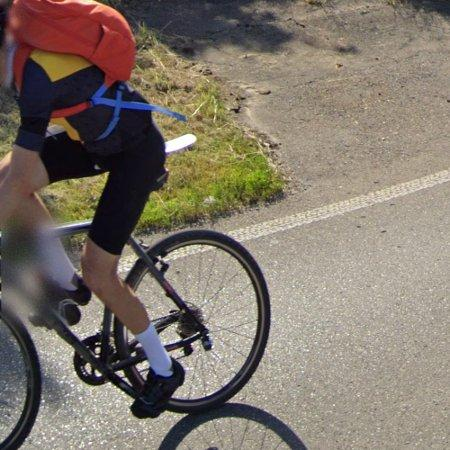bicycles: (0, 234, 148, 450), (126, 232, 271, 414)
